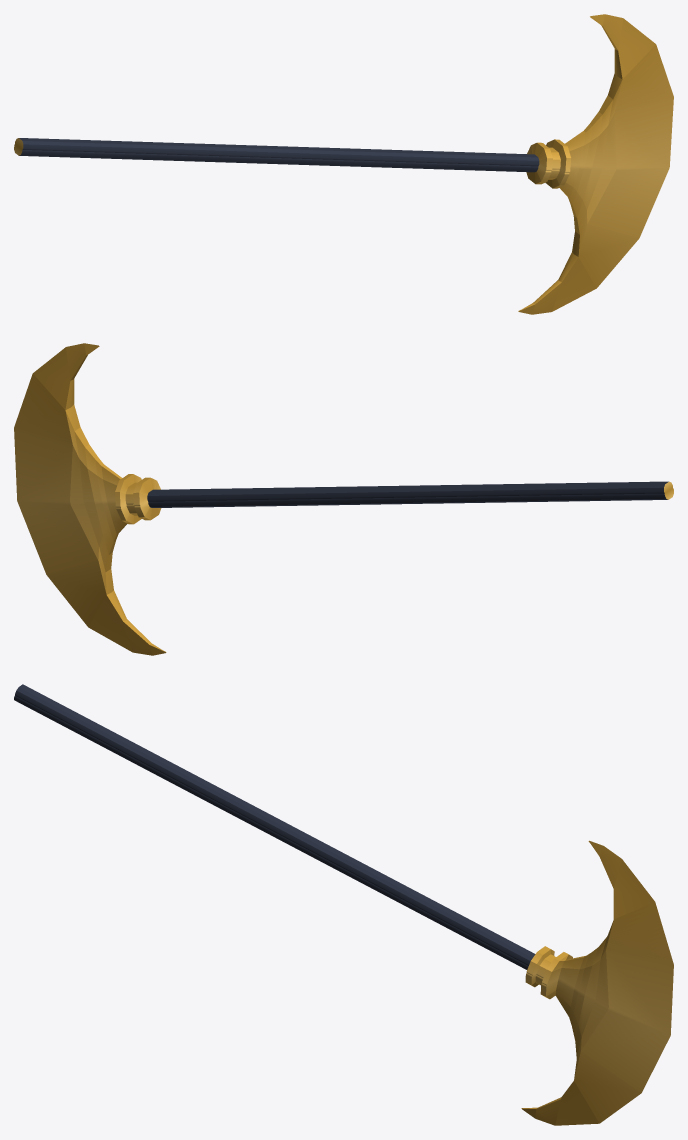
File: swingingAxe.obj
3 renders of one model, top to bottom at view 1: azimuth 30°, elevation 25°; view 2: azimuth 150°, elevation 25°; view 3: azimuth 330°, elevation 25°, orthographic. The views are drawn at different scales.
Parts seen in each view (by area): view 1: pCylinder152 SwingingAxeTrap; view 2: pCylinder152 SwingingAxeTrap; view 3: pCylinder152 SwingingAxeTrap.
Boxes of the visible parts, x1,y1,x2,y2 form: pCylinder152 SwingingAxeTrap: (14,14,673,314); pCylinder152 SwingingAxeTrap: (14,343,673,655); pCylinder152 SwingingAxeTrap: (14,684,673,1125).
Bounding box in the file's own units: 13.13 × 5.75 × 0.8439.
Materials: 1 (1 with a texture image).
